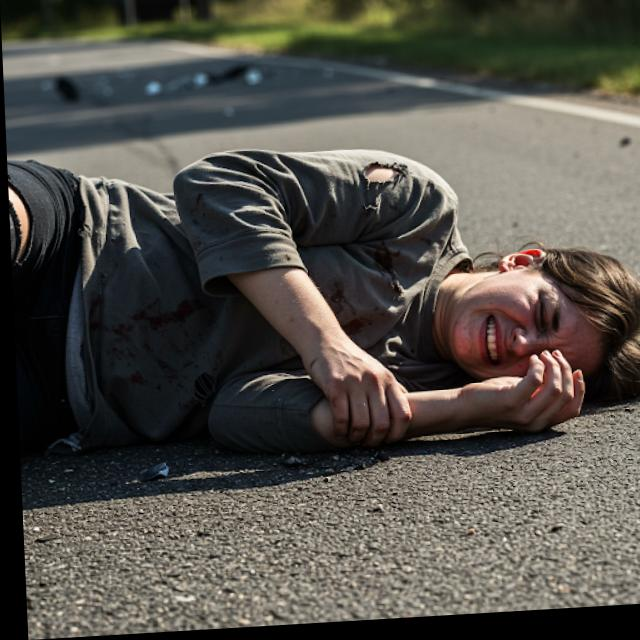no injury: (7, 123, 640, 458)
